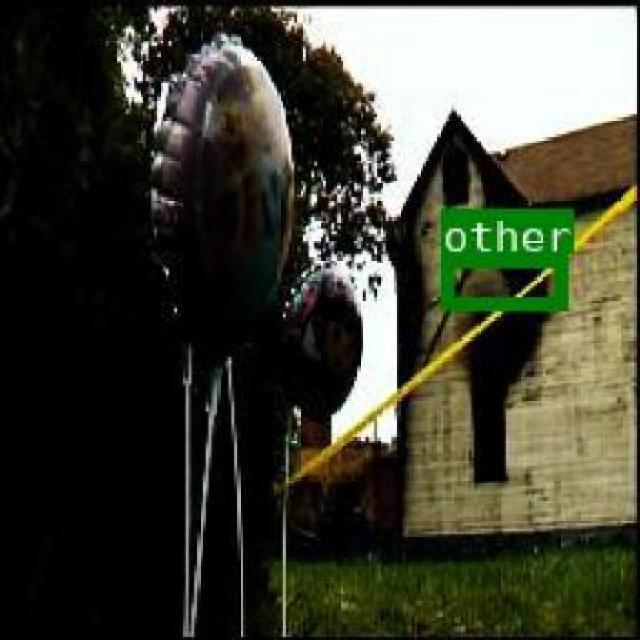Smoke: (440, 251, 566, 307)
